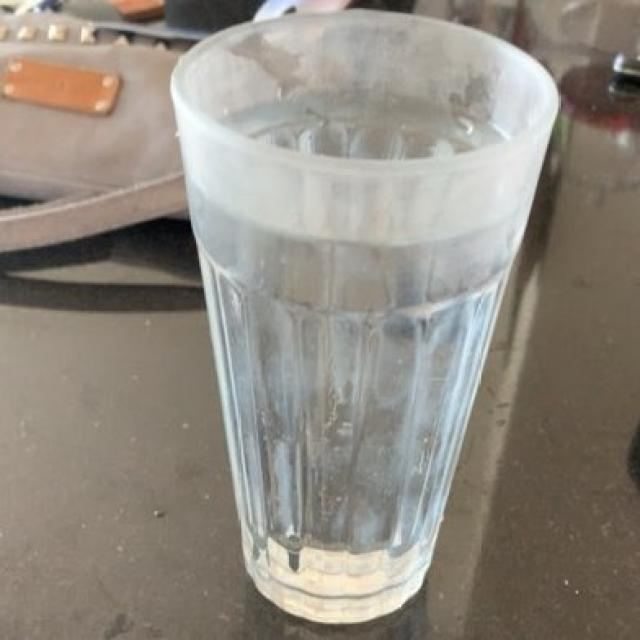water: (184, 58, 544, 598)
